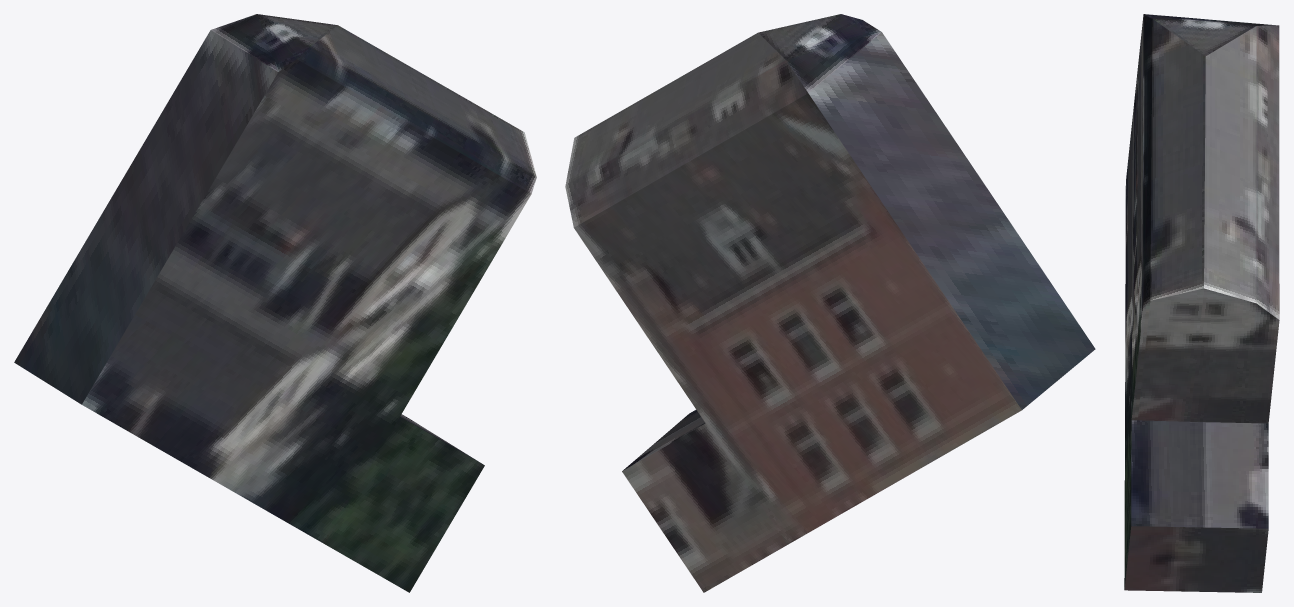
The picture shows the model from 3 angles, left to right: view 1: azimuth 30°, elevation 25°; view 2: azimuth 150°, elevation 25°; view 3: azimuth 270°, elevation 25°; orthographic projection. The views are drawn at different scales.
Visible parts, largest first — view 1: BAG_0599100000760416 (×2); view 2: BAG_0599100000760416 (×2); view 3: BAG_0599100000760416 (×2).
Part boxes in pixels (x1,y1,x2,y2): BAG_0599100000760416 (×2): [14, 14, 536, 592]; BAG_0599100000760416 (×2): [565, 14, 1095, 592]; BAG_0599100000760416 (×2): [1124, 14, 1279, 592].
Bounding box in the file's own units: 18.61 × 20.6 × 5.4.
Materials: 3 (2 with a texture image).
